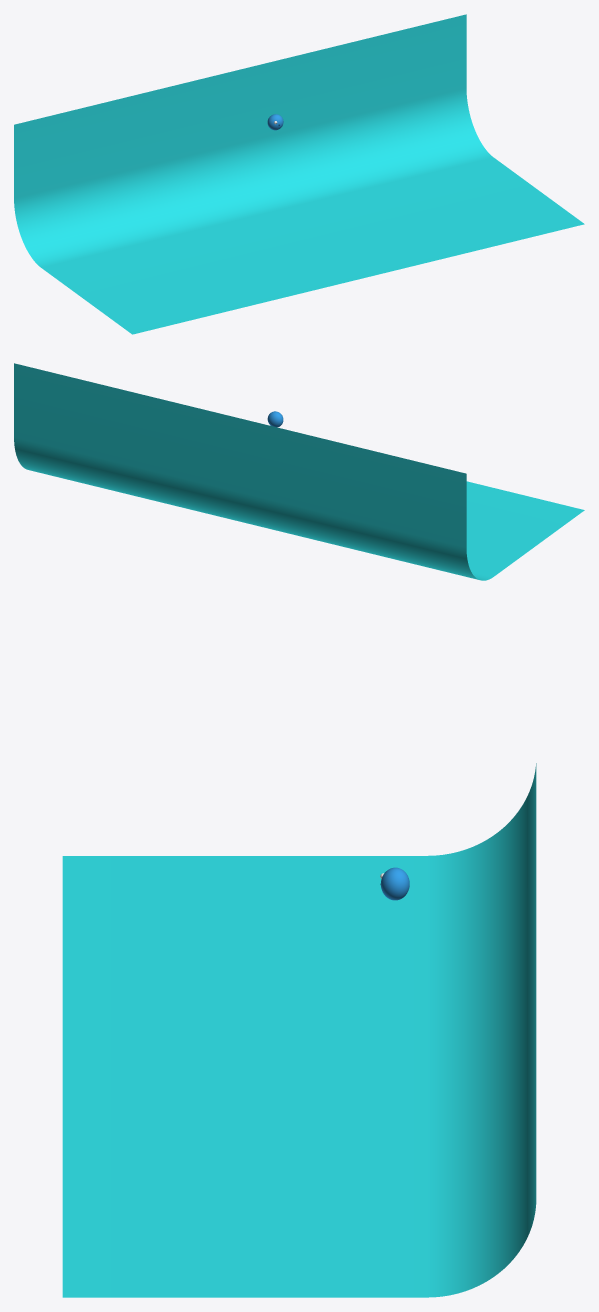
3 renders of one model, top to bottom at view 1: azimuth 30°, elevation 25°; view 2: azimuth 150°, elevation 25°; view 3: azimuth 270°, elevation 25°, orthographic. The views are drawn at different scales.
Visible parts, largest first — view 1: Plane; view 2: Plane; view 3: Plane.
Part boxes in pixels (x1,y1,x2,y2): Plane: (14, 14, 584, 334); Plane: (14, 363, 584, 580); Plane: (62, 763, 536, 1297).
Bounding box in the file's own units: 67.88 × 17.66 × 30.77.
